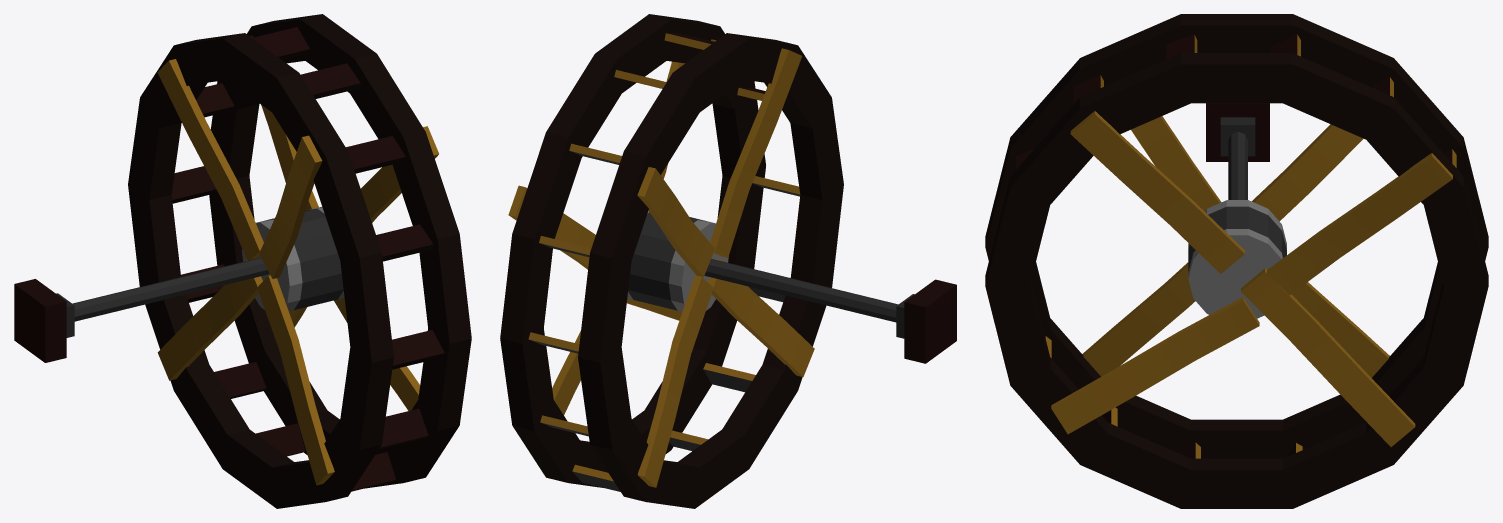
File: WaterMill.FBX
3 views of the same model, side by side, from view 1: azimuth 30°, elevation 25°; view 2: azimuth 150°, elevation 25°; view 3: azimuth 270°, elevation 25° (orthographic). The views are drawn at different scales.
Visible parts, largest first — view 1: Cylinder002, Cylinder001, Box016, Box015, Cylinder003, Box019, Cylinder004, Box017, Box018, Box014, Box002, Box001 (+8 smaller); view 2: Cylinder002, Cylinder001, Box015, Box016, Cylinder003, Box019, Cylinder004, Box017, Box018, Box004, Box007, Box010 (+2 smaller); view 3: Cylinder001, Cylinder002, Box017, Box018, Box016, Cylinder003, Box015, Box019, Cylinder004.
Part boxes in pixels (<box>): Cylinder002: <box>128,33,393,508</box>; Cylinder001: <box>209,14,471,488</box>; Box016: <box>157,59,334,485</box>; Box015: <box>157,135,322,380</box>; Cylinder003: <box>242,207,344,311</box>; Box019: <box>14,279,74,362</box>; Cylinder004: <box>72,257,268,321</box>; Box017: <box>261,104,419,410</box>; Box018: <box>289,126,438,327</box>; Box014: <box>346,136,405,173</box>; Box002: <box>392,330,444,369</box>; Box001: <box>376,224,433,261</box>; Cylinder002: <box>578,33,843,508</box>; Cylinder001: <box>500,14,765,487</box>; Box015: <box>637,48,802,487</box>; Box016: <box>637,167,814,376</box>; Cylinder003: <box>627,211,728,311</box>; Box019: <box>896,279,956,363</box>; Cylinder004: <box>704,258,898,322</box>; Box017: <box>508,185,682,320</box>; Box018: <box>552,61,684,414</box>; Box004: <box>703,363,755,392</box>; Box007: <box>572,464,620,491</box>; Box010: <box>539,236,591,257</box>; Cylinder001: <box>985,53,1488,508</box>; Cylinder002: <box>985,14,1488,458</box>; Box017: <box>1051,153,1452,434</box>; Box018: <box>1070,111,1415,446</box>; Box016: <box>1082,124,1363,376</box>; Cylinder003: <box>1188,200,1286,318</box>; Box015: <box>1131,116,1389,377</box>; Box019: <box>1206,103,1269,161</box>; Cylinder004: <box>1228,131,1247,199</box>.
Size of the model in its own units: 70.74 by 88.62 by 90.89.
